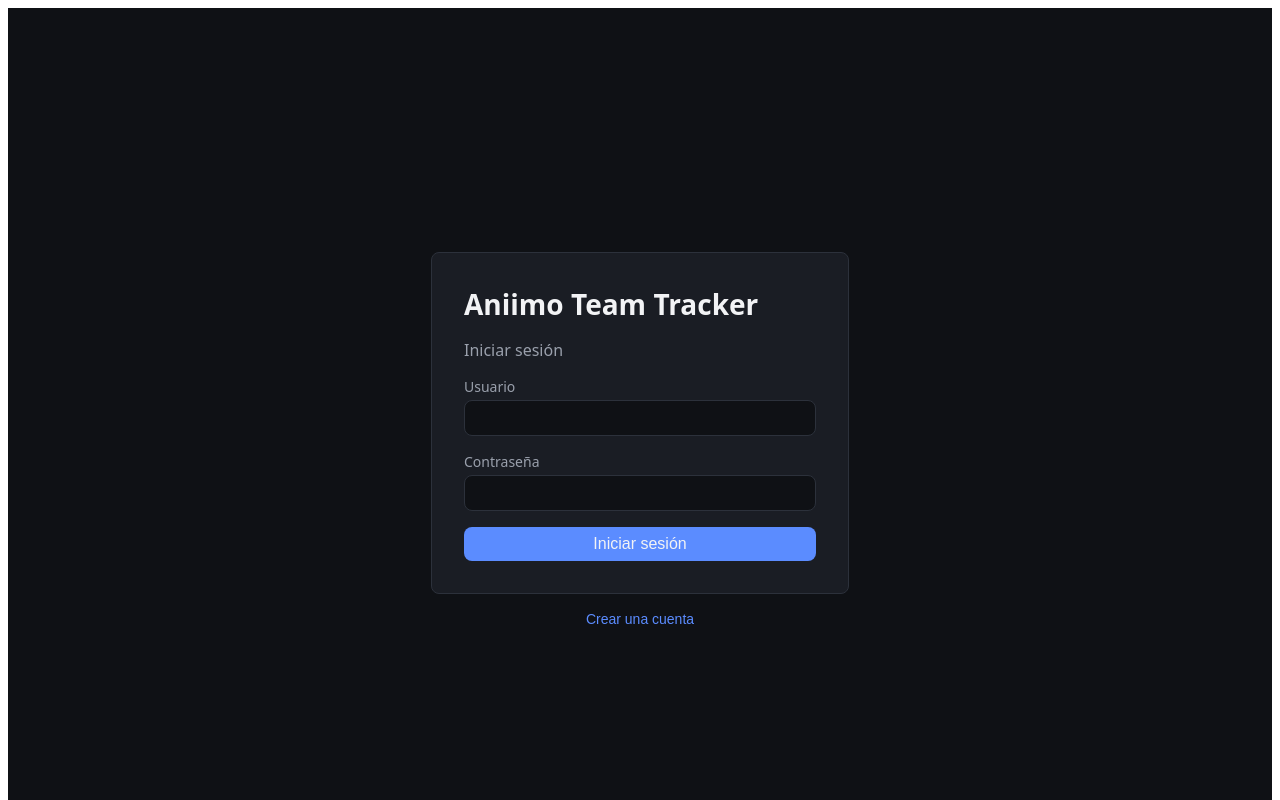
Test: ayuda del registro › los requisitos de usuario y contrasena se ven antes de cualquier error
Step 1. Click the button "Crear una cuenta" → (640, 619), box x1=580 y1=610 x2=700 y2=628
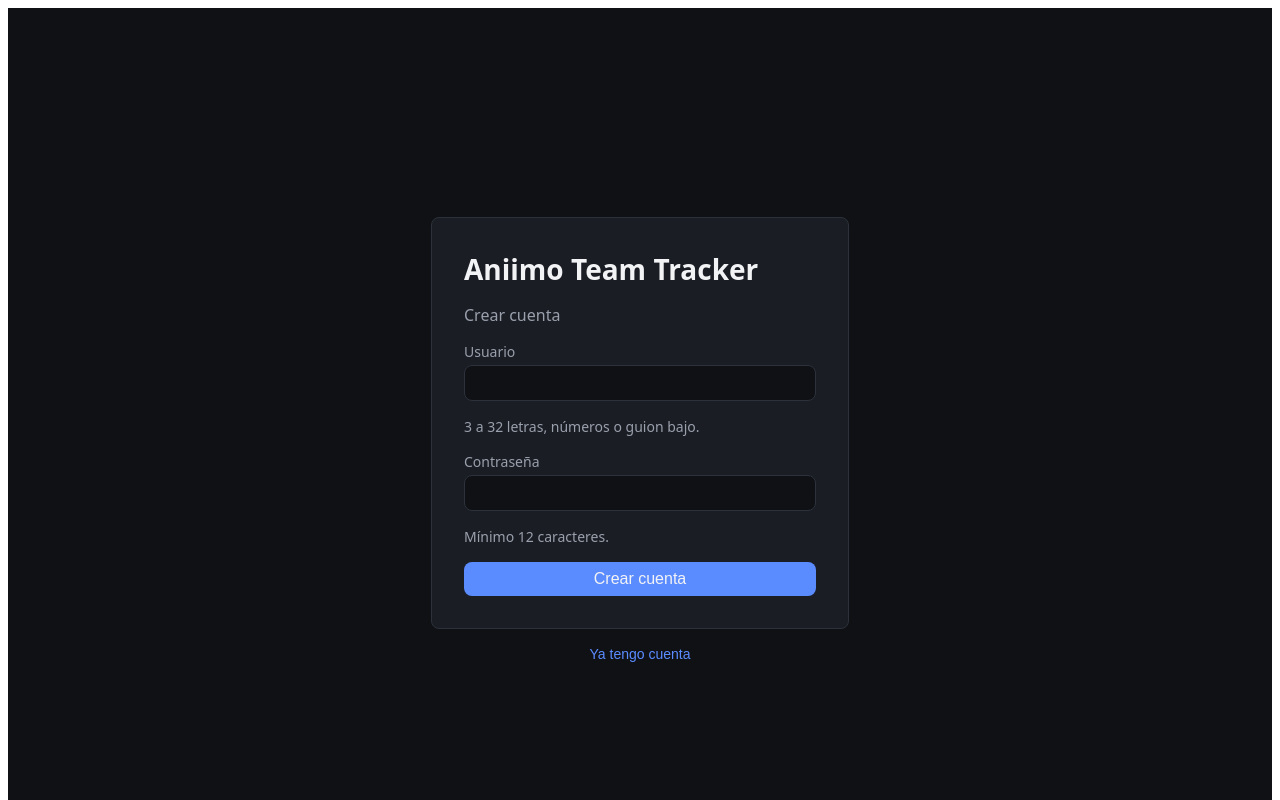
Expected: the button "Crear cuenta" is shown, x1=464 y1=562 x2=816 y2=596
